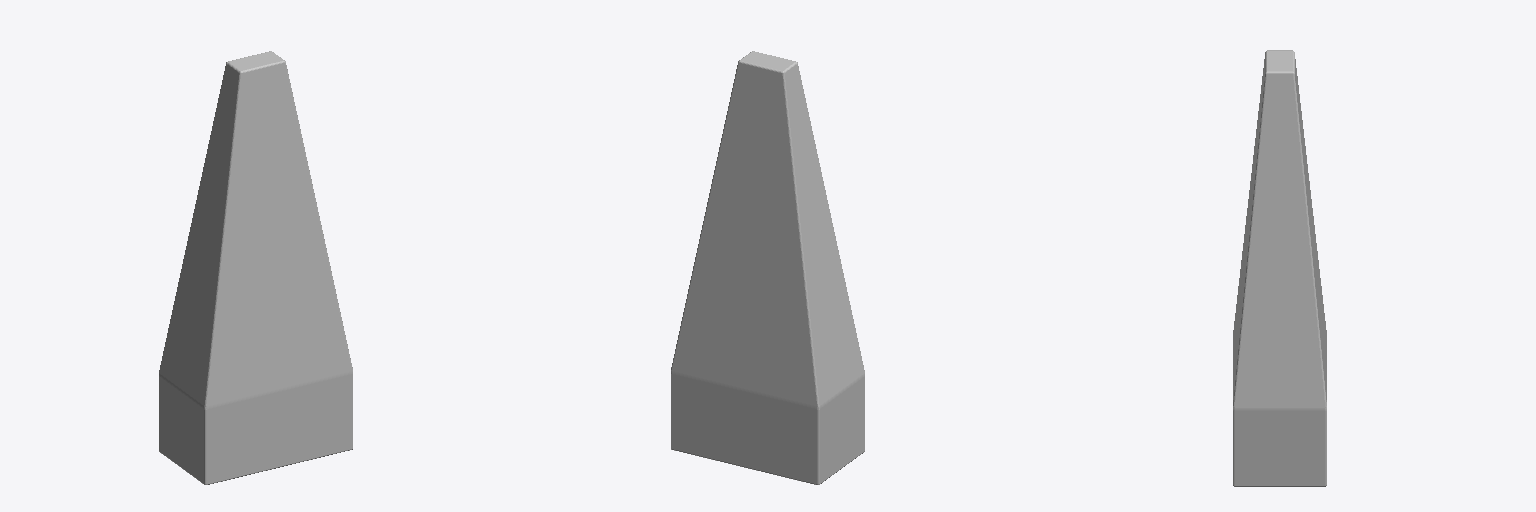
Rendered from monolith3.obj.
The picture shows the model from 3 angles: view 1: azimuth 30°, elevation 25°; view 2: azimuth 150°, elevation 25°; view 3: azimuth 270°, elevation 25°; orthographic projection.
Visible parts, largest first — view 1: Cube; view 2: Cube; view 3: Cube.
Boxes of the visible parts, x1,y1,x2,y2 form: Cube: [159, 51, 352, 484]; Cube: [671, 51, 864, 484]; Cube: [1233, 50, 1326, 486].
Bounding box in the file's own units: 2 × 5 × 1.1.